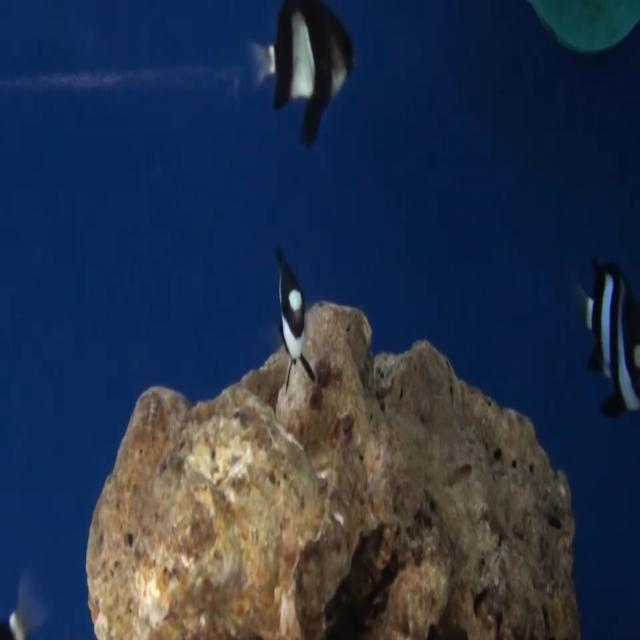ThreeStripedDamselfish: (252, 0, 355, 148), (276, 248, 315, 393)
